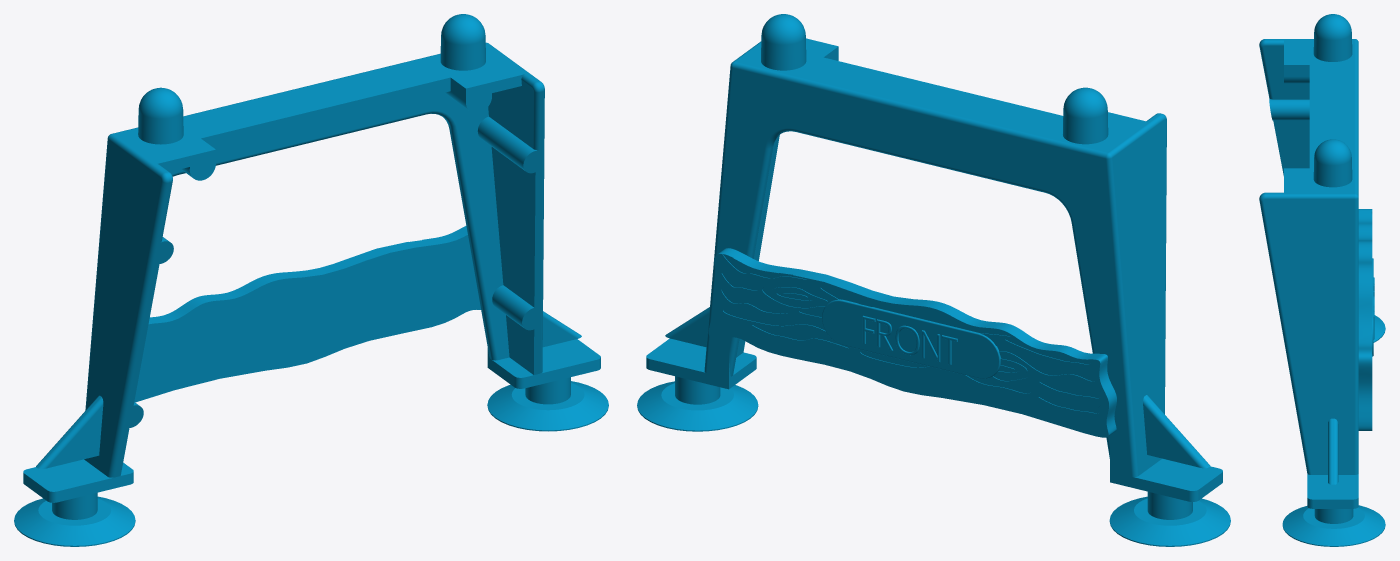
The model's file is TRUSS - FRONT.fbx.
The picture shows the model from 3 angles, left to right: view 1: azimuth 30°, elevation 25°; view 2: azimuth 150°, elevation 25°; view 3: azimuth 270°, elevation 25°; orthographic projection. The views are drawn at different scales.
Parts seen in each view (by area): view 1: TRUSS - FRONT; view 2: TRUSS - FRONT; view 3: TRUSS - FRONT.
Boxes of the visible parts, x1,y1,x2,y2 form: TRUSS - FRONT: (14,14,608,546); TRUSS - FRONT: (637,14,1230,546); TRUSS - FRONT: (1259,14,1385,546).
Bounding box in the file's own units: 6.99 × 4.74 × 1.55.
